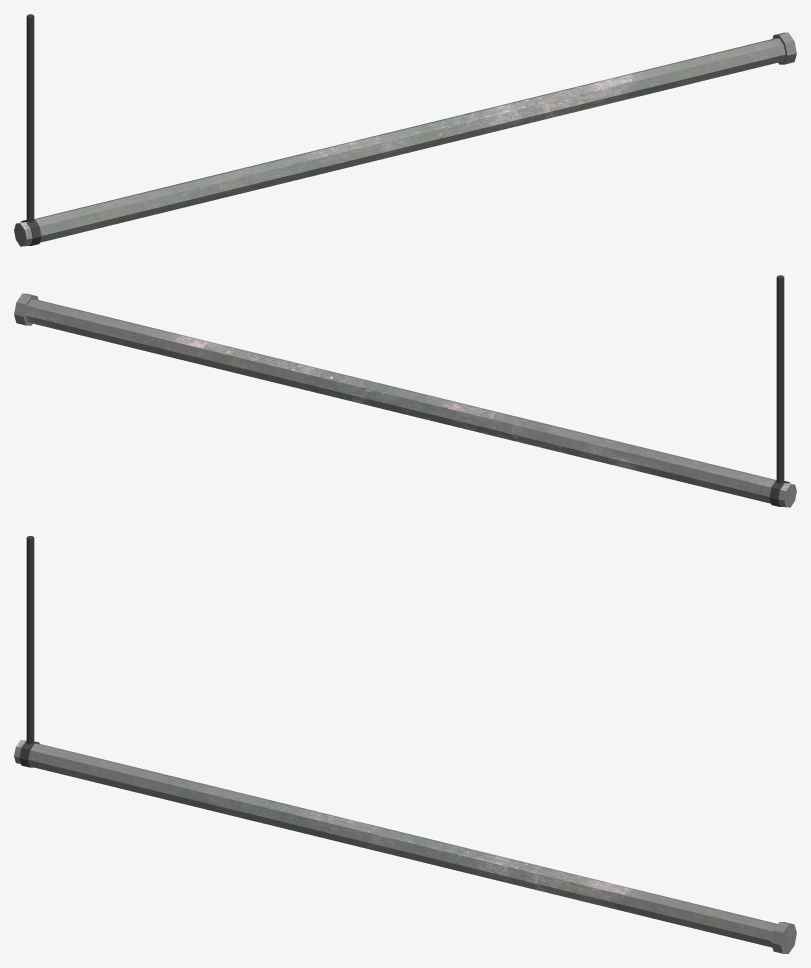
File: ceilingmetalpipe.glb
The picture shows the model from 3 angles, top to bottom: view 1: azimuth 30°, elevation 25°; view 2: azimuth 150°, elevation 25°; view 3: azimuth 330°, elevation 25°; orthographic projection.
Parts seen in each view (by area): view 1: Pipe, Pipeholder; view 2: Pipe, Pipeholder; view 3: Pipe, Pipeholder.
Part boxes in pixels (bbox=[...]): Pipe: bbox=[14, 32, 796, 246]; Pipeholder: bbox=[21, 14, 41, 245]; Pipe: bbox=[14, 293, 796, 507]; Pipeholder: bbox=[769, 275, 789, 506]; Pipe: bbox=[14, 740, 796, 953]; Pipeholder: bbox=[19, 536, 39, 767].
Bounding box in the file's own units: 11.47 × 3.3 × 0.4223.
2 materials, 1 textured.
